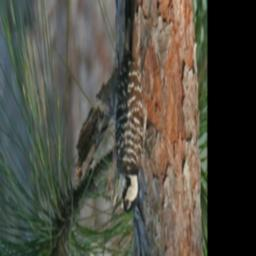Woodpecker: (110, 0, 156, 215)
